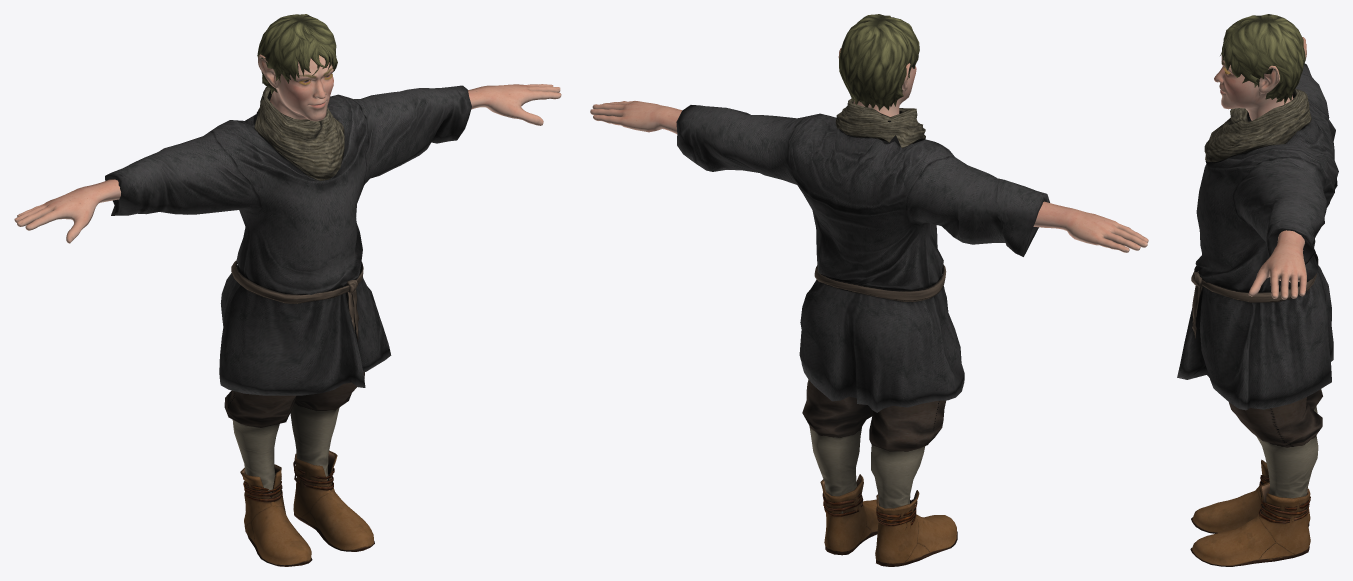
The model's file is merry.obj.
3 views of the same model, side by side, from view 1: azimuth 30°, elevation 25°; view 2: azimuth 150°, elevation 25°; view 3: azimuth 270°, elevation 25° (orthographic). The views are drawn at different scales.
Parts seen in each view (by area): view 1: Tops, Shoes, Body, Bottoms, Hair; view 2: Tops, Bottoms, Shoes, Hair, Body; view 3: Tops, Shoes, Bottoms, Hair, Body.
Boxes of the visible parts, <box> form: Tops: <box>105,85,471,395</box>; Shoes: <box>240,450,374,566</box>; Body: <box>14,54,561,243</box>; Bottoms: <box>224,372,364,493</box>; Hair: <box>257,14,337,94</box>; Tops: <box>676,98,1049,412</box>; Bottoms: <box>802,379,945,513</box>; Shoes: <box>820,474,957,566</box>; Hair: <box>839,14,919,110</box>; Body: <box>590,48,1148,252</box>; Tops: <box>1177,63,1338,410</box>; Shoes: <box>1190,459,1310,566</box>; Bottoms: <box>1229,389,1322,498</box>; Hair: <box>1220,14,1305,104</box>; Body: <box>1214,37,1306,299</box>.
Bounding box in the file's own units: 168 × 153 × 42.89.
5 materials, 5 textured.
